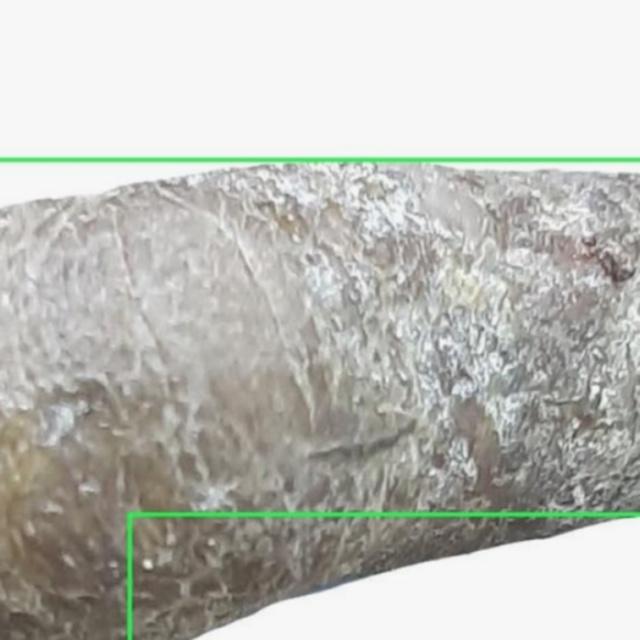Eczema: (0, 161, 639, 639), (129, 514, 639, 639)
